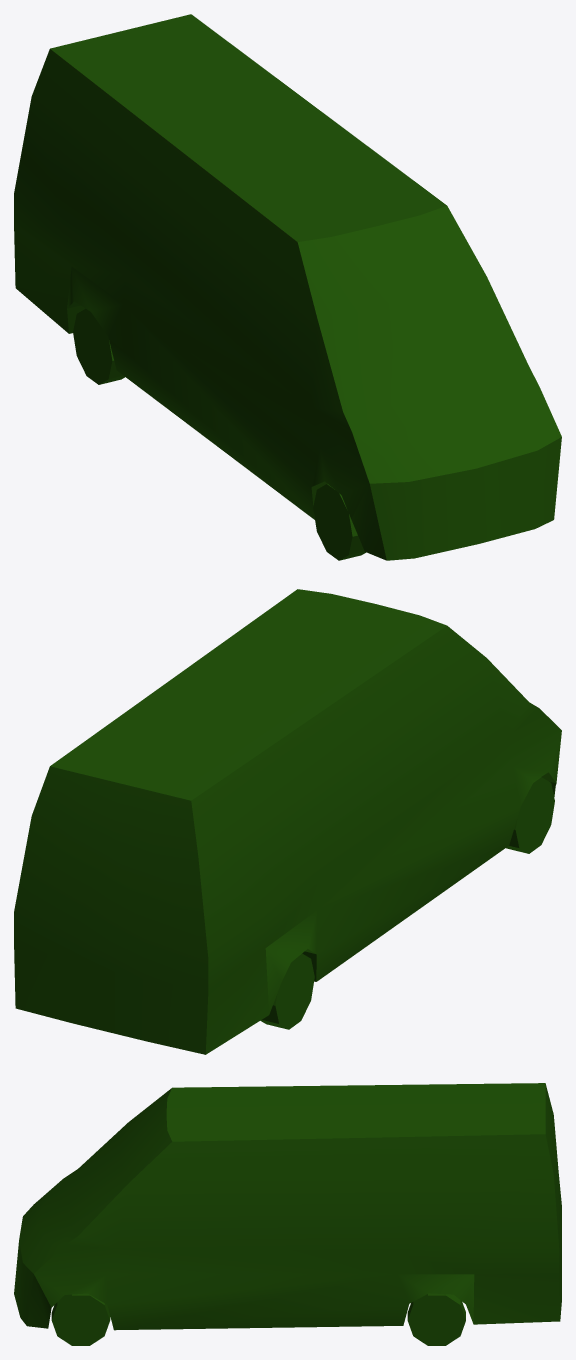
Rendered from Vehicle04B.fbx.
3 views of the same model, one above another, from view 1: azimuth 30°, elevation 25°; view 2: azimuth 150°, elevation 25°; view 3: azimuth 270°, elevation 25° (orthographic). The views are drawn at different scales.
Visible parts, largest first — view 1: Vehicle04B; view 2: Vehicle04B; view 3: Vehicle04B.
Boxes of the visible parts, x1,y1,x2,y2 form: Vehicle04B: (14,14,561,560); Vehicle04B: (14,589,561,1054); Vehicle04B: (14,1083,561,1345).
Size of the model in its own units: 1.63 by 1.95 by 4.82.
